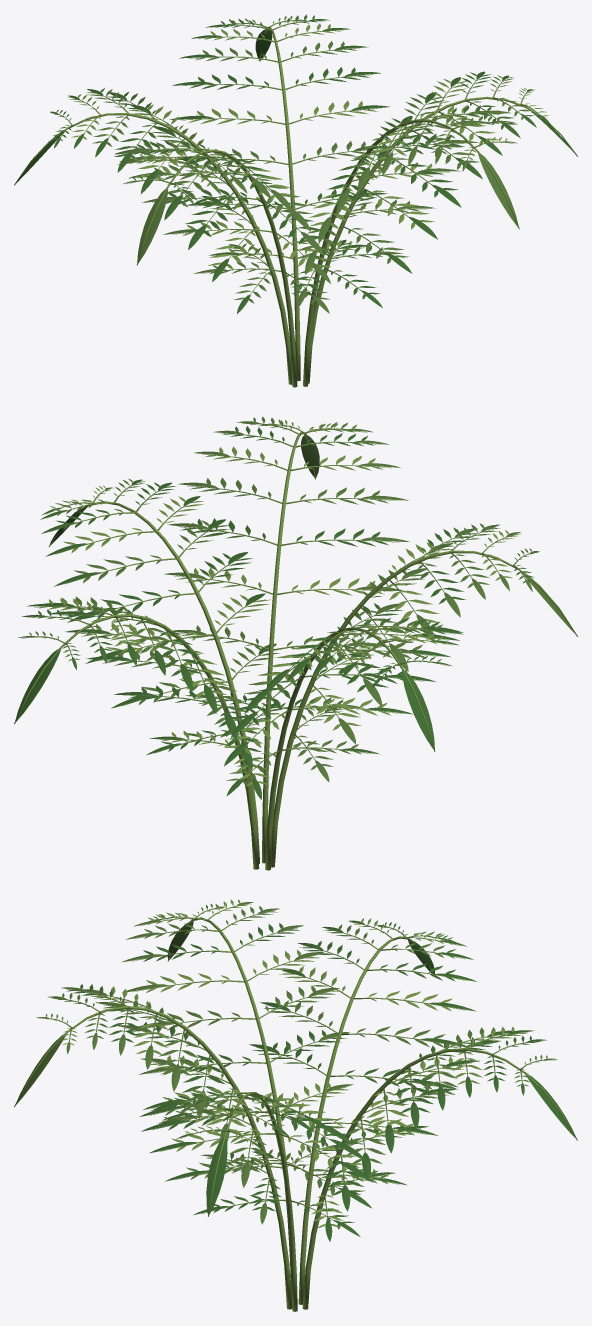
The model's file is meadow_fern_arching.hi.glb.
The picture shows the model from 3 angles, top to bottom: view 1: azimuth 30°, elevation 25°; view 2: azimuth 150°, elevation 25°; view 3: azimuth 270°, elevation 25°; orthographic projection. The views are drawn at different scales.
Visible parts, largest first — view 1: body; view 2: body; view 3: body.
Boxes of the visible parts, x1,y1,x2,y2 form: body: (14,14,577,387); body: (14,416,577,870); body: (14,899,577,1311).
Size of the model in its own units: 0.8007 by 0.5172 by 0.8025.
